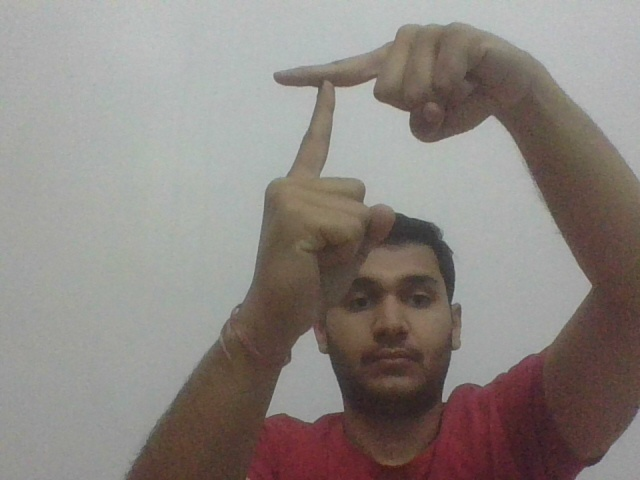T: (271, 52, 369, 173)
